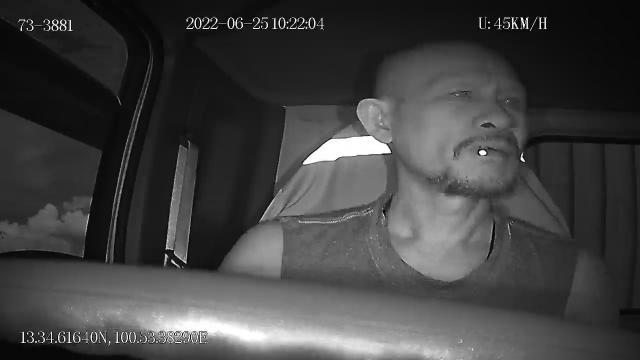SafeDriving: (434, 77, 482, 108)
Smoking: (477, 144, 487, 156)
